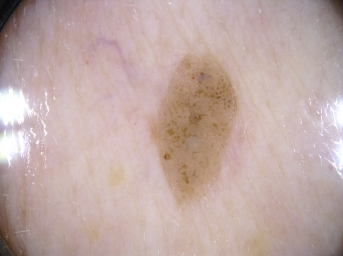seborrheic keratosis: (136, 43, 255, 209)
